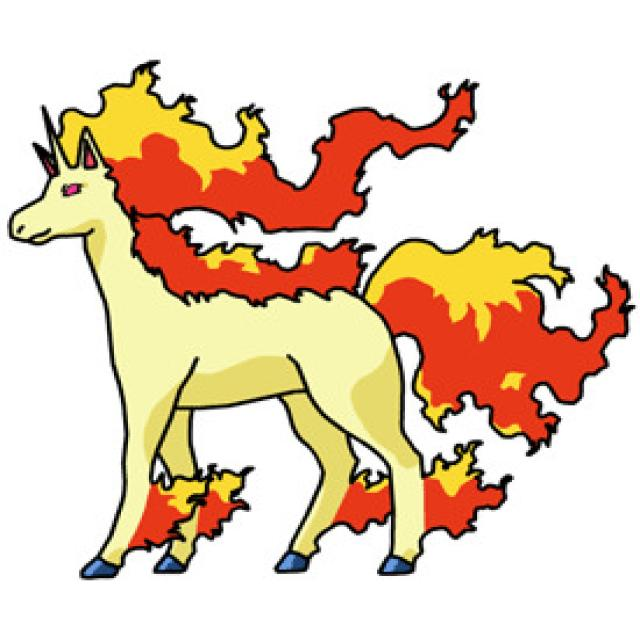Rapidash: (7, 57, 636, 584)
